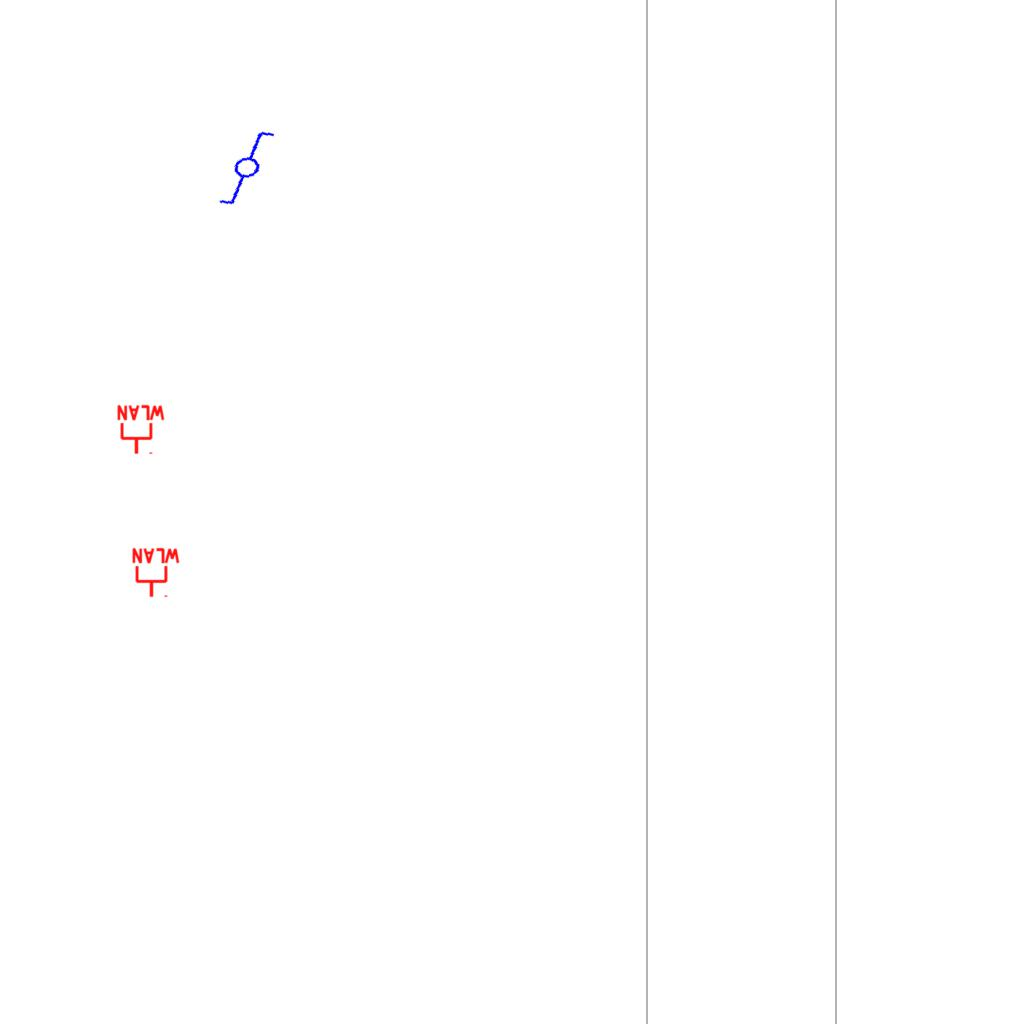WLAN: (115, 404, 167, 456), (130, 547, 182, 599)
Wechselschalter: (206, 125, 296, 211)
